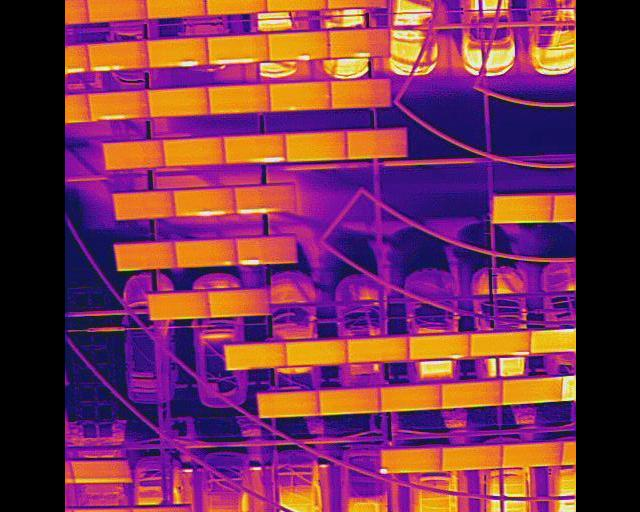Cell: (328, 28, 390, 58), (268, 34, 328, 64), (268, 84, 330, 112), (174, 241, 236, 267), (380, 448, 440, 474), (409, 335, 469, 361)
No-Anomaly: (163, 134, 224, 167), (346, 128, 408, 160), (148, 87, 208, 119), (103, 141, 165, 171), (284, 132, 346, 162), (112, 191, 175, 220), (329, 81, 391, 110), (256, 390, 317, 419), (438, 382, 501, 410), (208, 86, 269, 114), (224, 343, 285, 371), (283, 342, 346, 369), (207, 290, 272, 316), (502, 377, 560, 406), (148, 294, 210, 321), (492, 195, 550, 223), (115, 244, 175, 271), (441, 445, 501, 472), (346, 338, 408, 364), (68, 460, 132, 484), (501, 444, 561, 469), (377, 388, 439, 412), (317, 392, 379, 415), (86, 0, 146, 23), (144, 0, 206, 19), (530, 332, 576, 355), (204, 0, 265, 16), (265, 0, 326, 13), (327, 0, 387, 9), (130, 507, 193, 512)
Unclassified: (87, 91, 148, 124), (206, 35, 268, 67), (86, 41, 149, 72), (222, 134, 284, 165), (145, 39, 208, 68), (235, 237, 298, 266), (173, 188, 234, 217), (233, 187, 295, 214), (469, 333, 529, 358)
